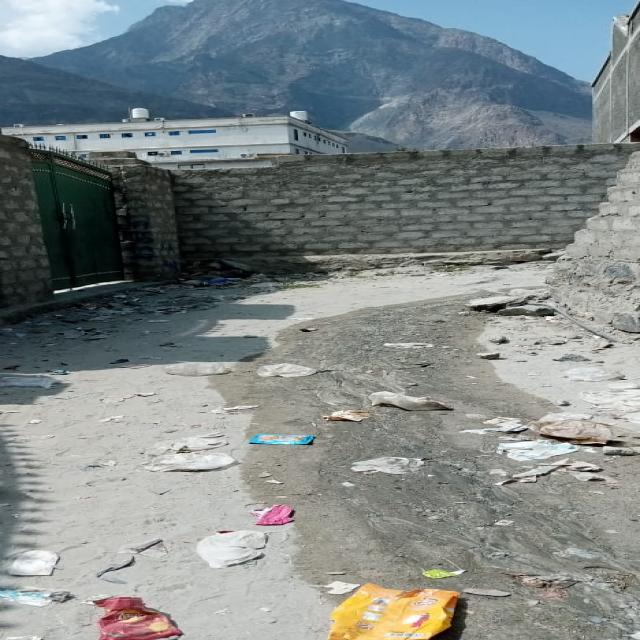Right-Turn: (227, 260, 550, 348)
